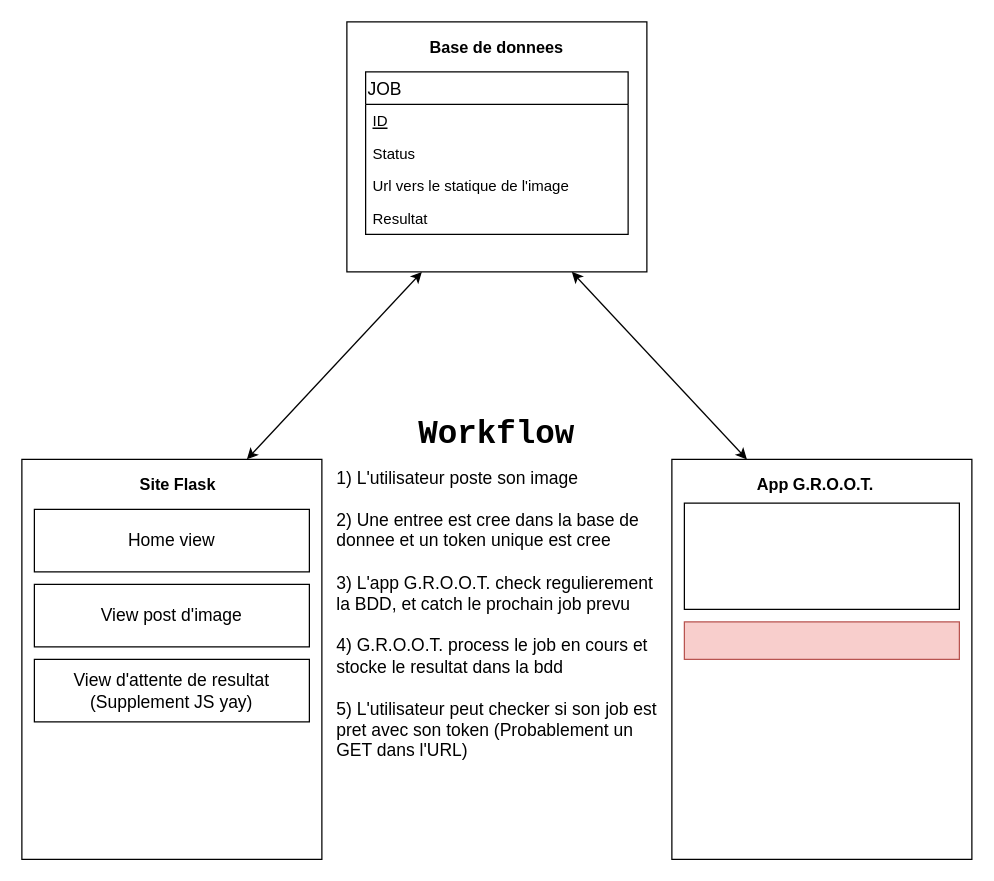
The diagram is 994 pixels wide and 881 high, and some of its shapes have lost their labels. Here are the shapes that lost their labels. From the top down, the box of each, then its label:
(683, 502, 959, 609): while True: if new_job: do_job() update_db()
(683, 621, 959, 659): -> Multithreading ?
